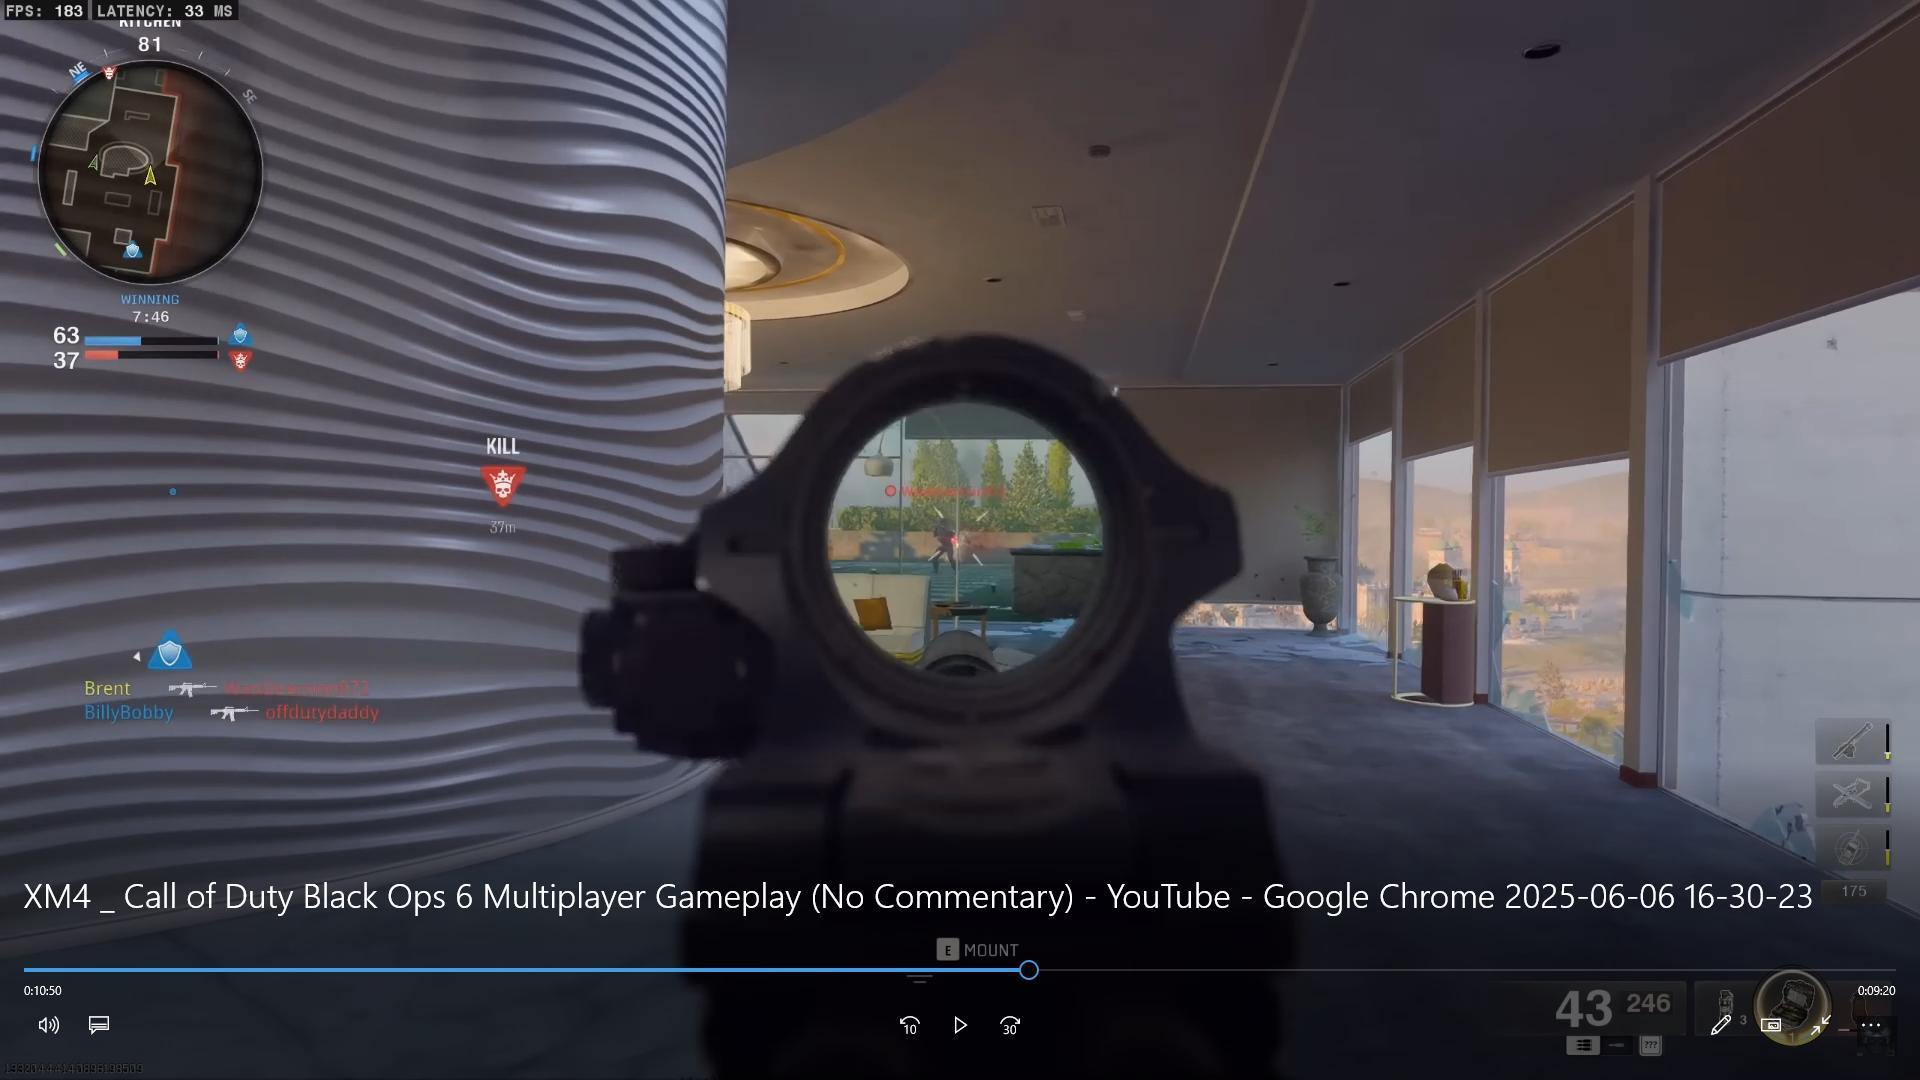Enemy: (920, 506, 969, 584)
